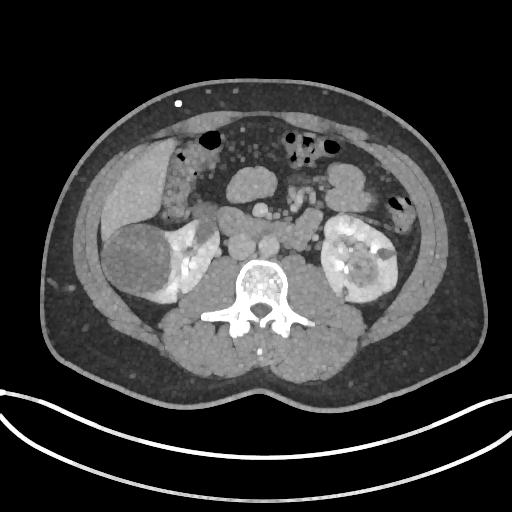Lesion: (343, 246, 380, 296)
